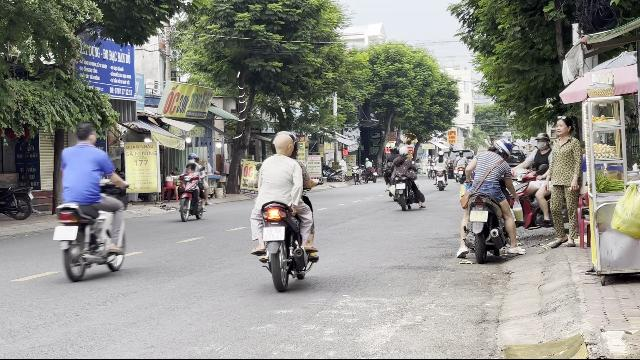helmet: (490, 138, 512, 162), (186, 152, 198, 164)
licenseplate: (262, 226, 284, 240), (54, 225, 76, 239), (469, 210, 488, 221)
motorcyclist: (50, 120, 128, 280), (246, 131, 320, 290), (454, 133, 522, 263), (175, 153, 207, 222)
nohelmet: (272, 132, 296, 156), (73, 122, 97, 144)
